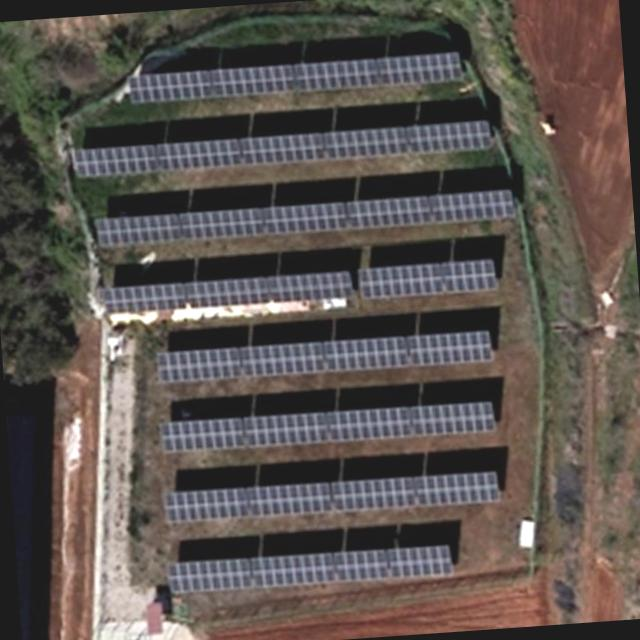solar: (94, 182, 516, 250), (68, 114, 494, 178), (152, 325, 494, 387), (153, 396, 500, 457), (162, 466, 502, 525), (125, 46, 465, 104), (163, 540, 455, 594), (98, 268, 357, 320), (354, 256, 500, 302)
